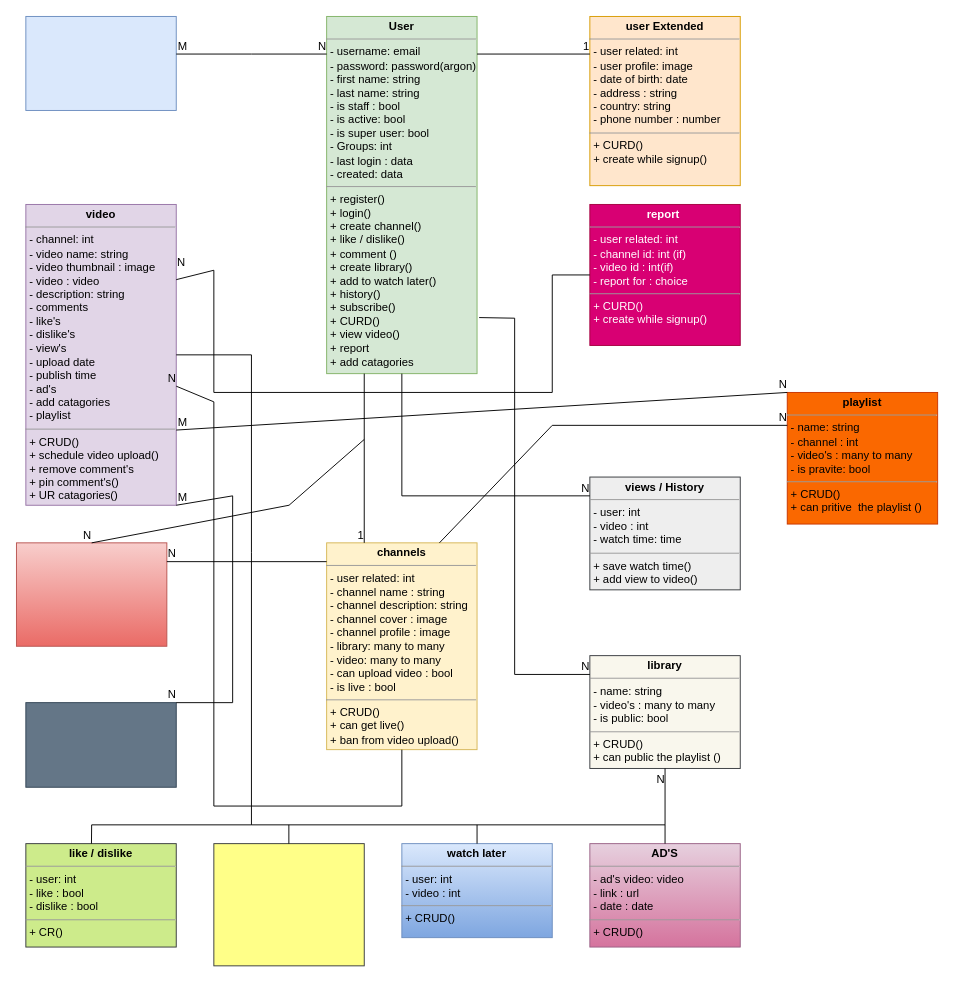
This 954x982 diagram has some shape labels left out. Each missing label, with the box of its shape:
catagories - catagories name: int - choices: choice + CURD(): (25, 702, 176, 787)
comments - user: int - video: int - comment text - time - is pined + CRUD(): (213, 843, 364, 966)
Groups - group name: string - group permission: strings + add groups(): (25, 16, 176, 110)
subscriber - user : int - channel : int + can subscribe() + unsubscribe(): (16, 542, 167, 646)
